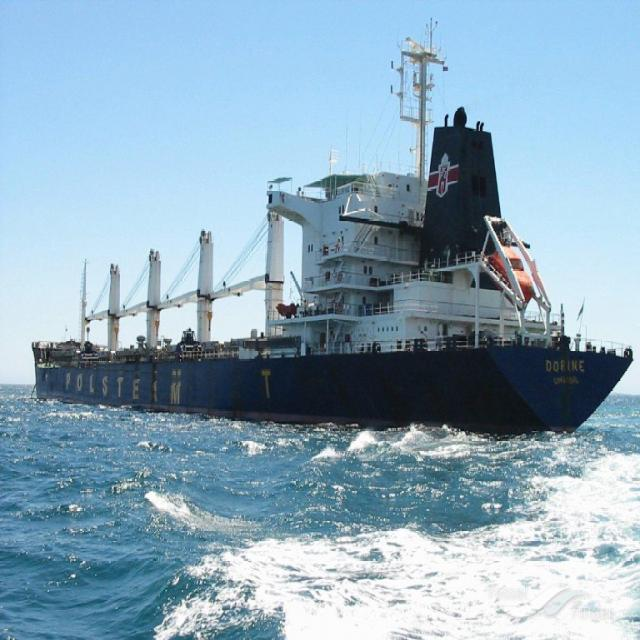OCR: (60, 363, 188, 404), (537, 356, 588, 396)
